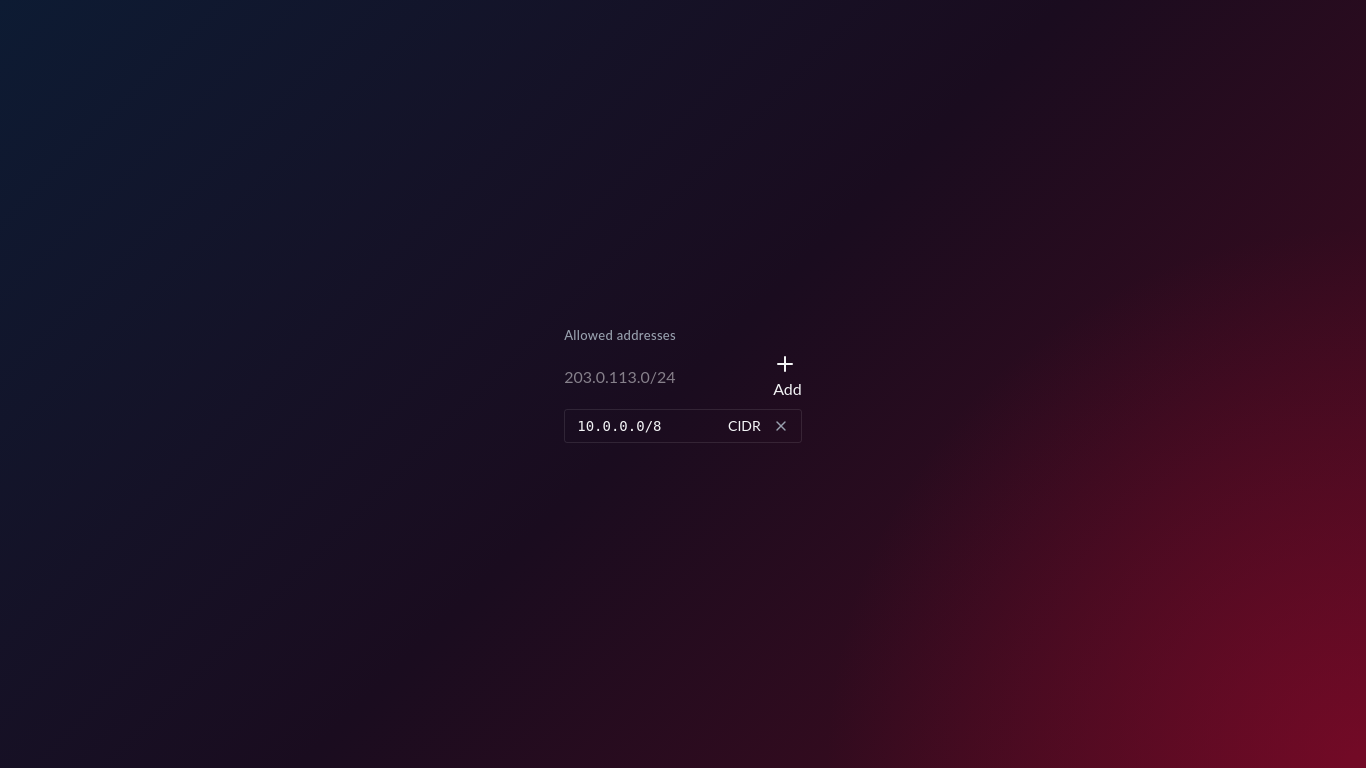
Scenario: AllowListEditor / IpInput › adds valid entries, rejects invalid and duplicates
Later steps or results of the test are not shown.
Type "nope" into the field at {"x": 665, "y": 376}, box [564, 352, 765, 401]
Then press Enter
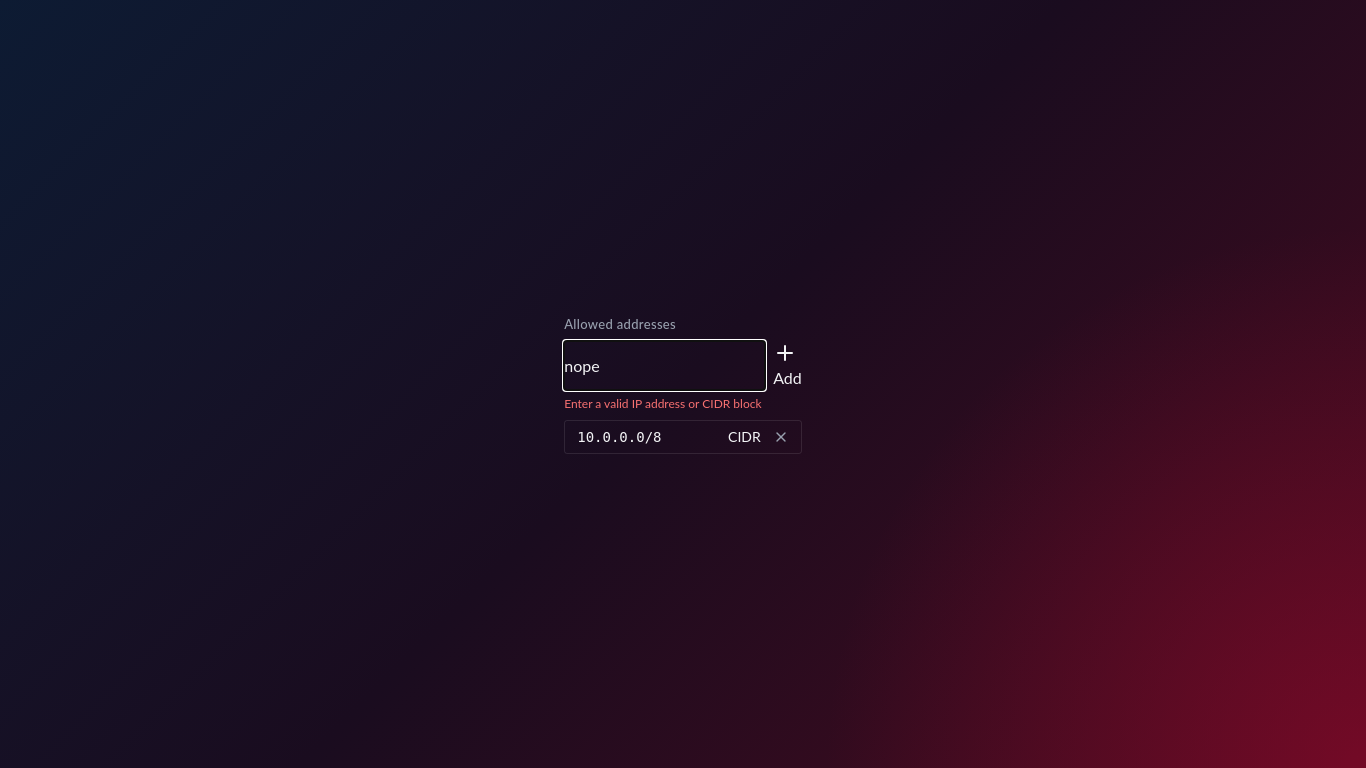
Now the message "Enter a valid IP address or CIDR block" is shown, box [564, 396, 762, 411]
Clear the field at {"x": 665, "y": 365}, box [564, 341, 765, 390]
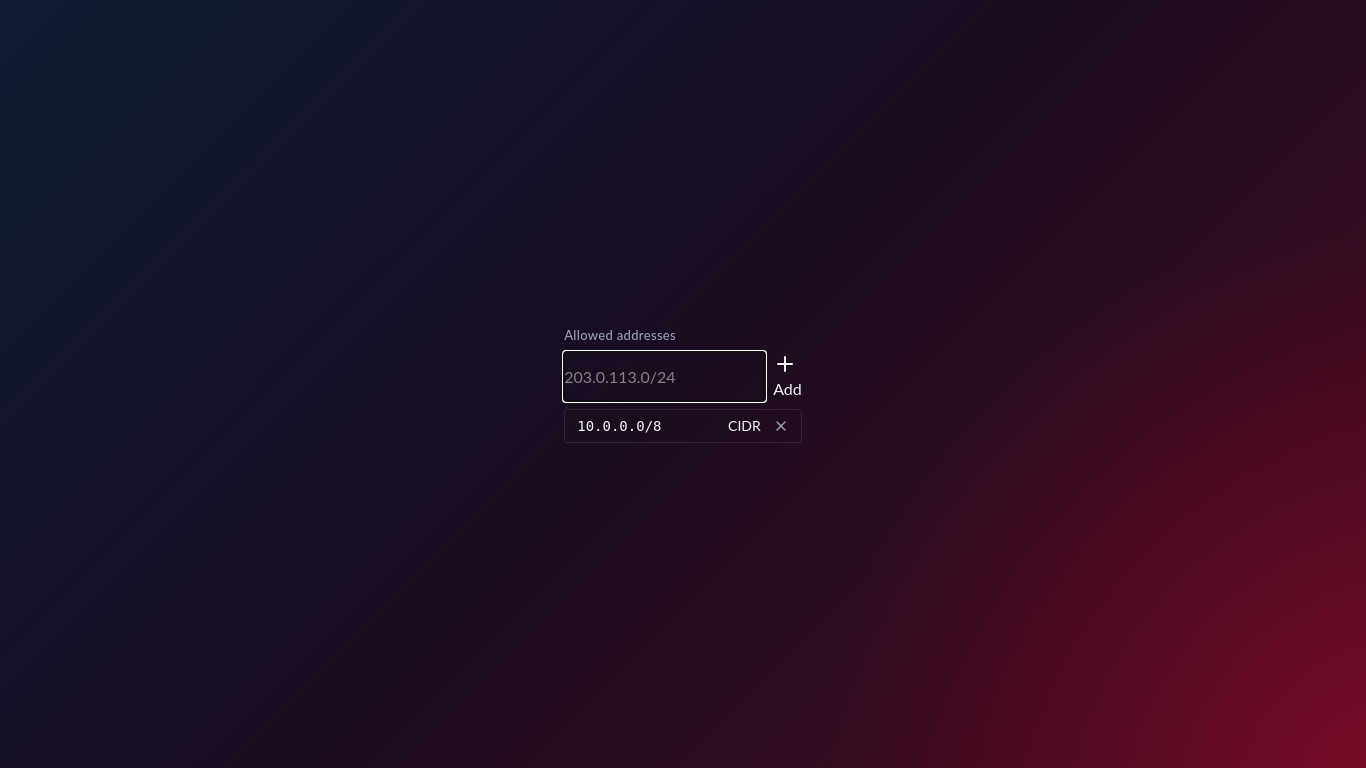
Type "10.0.0.0/8" into the field at {"x": 665, "y": 376}, box [564, 352, 765, 401]
Then press Enter
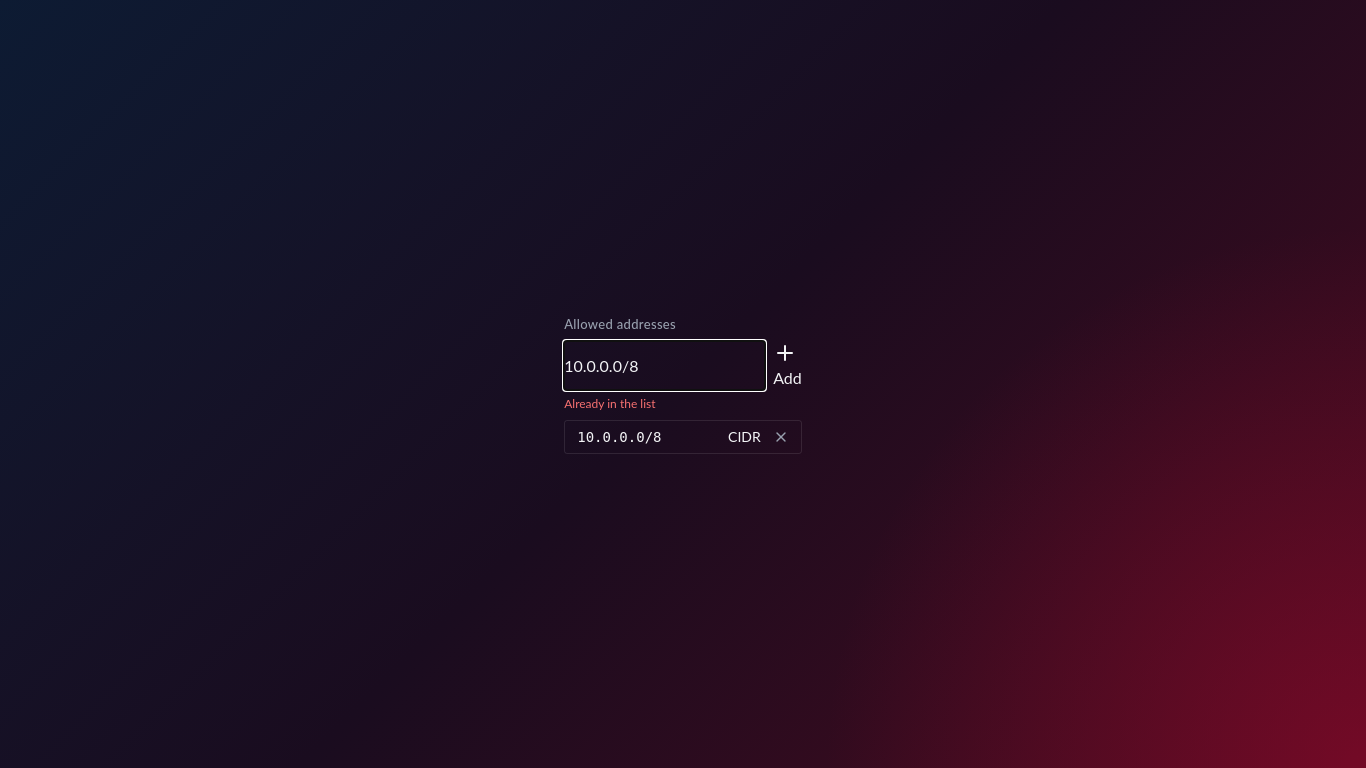
Now the message shows "Already", box [564, 396, 656, 411]
